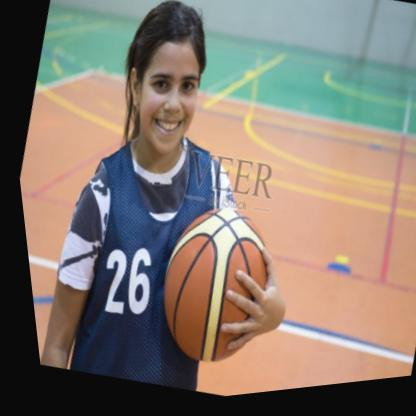basketball: (132, 197, 283, 382)
